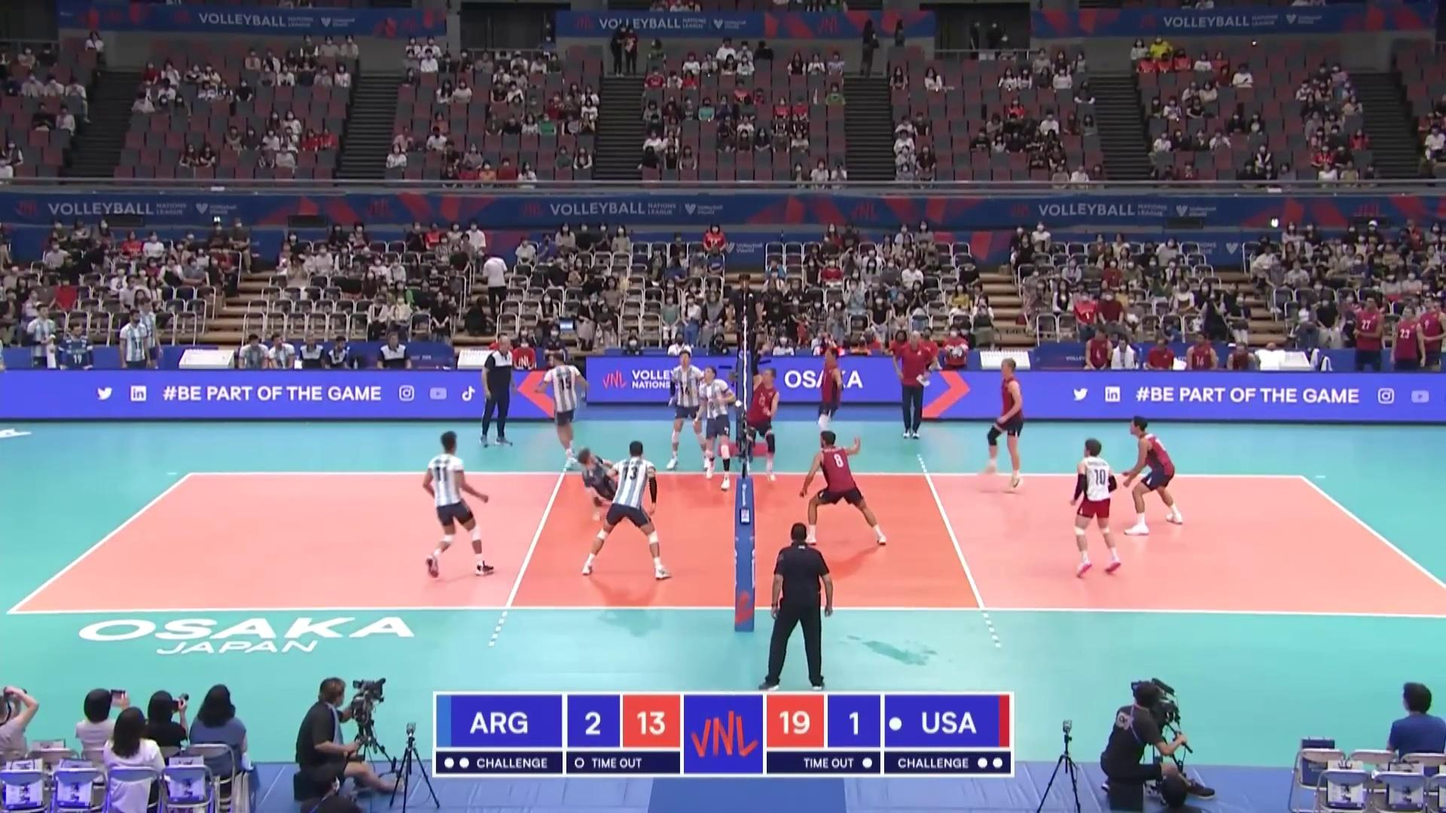player: (582, 441, 675, 581), (421, 434, 499, 576), (795, 431, 886, 545), (1122, 418, 1185, 536), (1070, 438, 1123, 577), (983, 356, 1028, 492), (539, 352, 590, 469), (667, 351, 711, 470), (696, 367, 734, 490), (577, 447, 638, 520), (746, 361, 781, 488), (816, 347, 846, 461)
refree: (757, 522, 834, 688), (729, 273, 763, 361)
